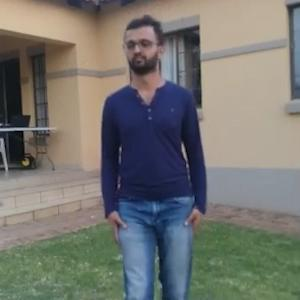follow: (103, 29, 199, 299)
